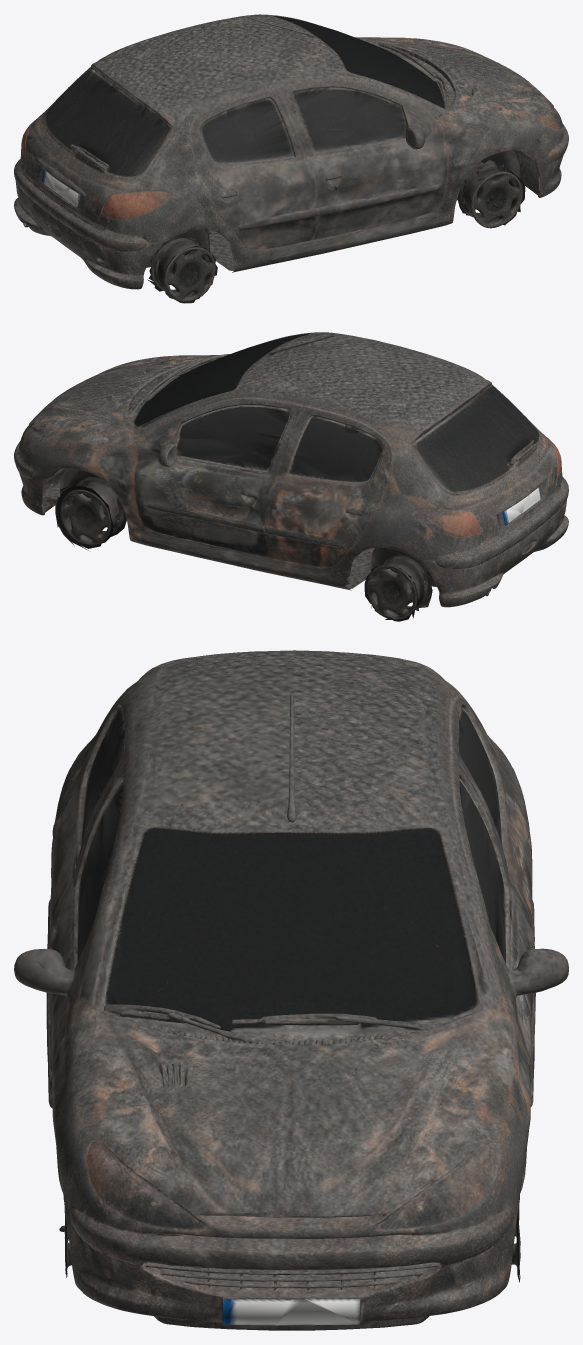
Rendered from pampeiro-queimado__01a16dcf.glb.
3 views of the same model, one above another, from view 1: azimuth 30°, elevation 25°; view 2: azimuth 150°, elevation 25°; view 3: azimuth 270°, elevation 25° (orthographic). The views are drawn at different scales.
Parts seen in each view (by area): view 1: pampeiro-queimado; view 2: pampeiro-queimado; view 3: pampeiro-queimado.
Boxes of the visible parts, <box> form: pampeiro-queimado: <box>14,14,568,303</box>; pampeiro-queimado: <box>14,332,568,621</box>; pampeiro-queimado: <box>14,650,568,1330</box>.
Bounding box in the file's own units: 3.83 × 1.64 × 2.
Materials: 1 (1 with a texture image).
